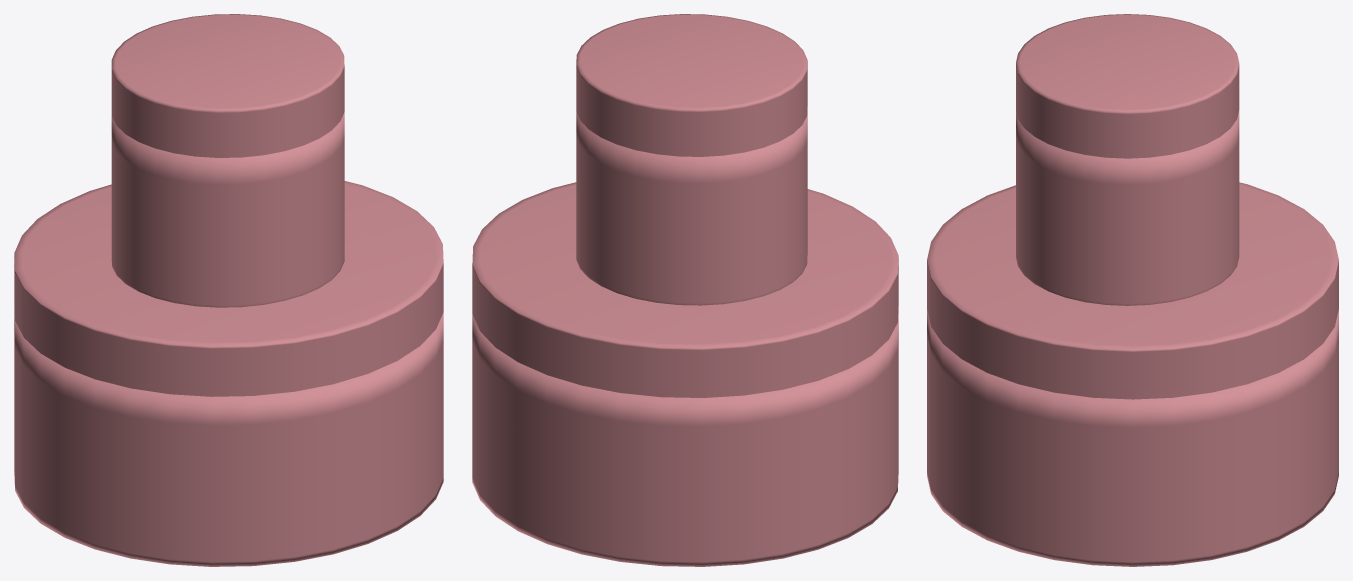
The model's file is 2-tier-blush-none-none.glb.
3 views of the same model, side by side, from view 1: azimuth 30°, elevation 25°; view 2: azimuth 150°, elevation 25°; view 3: azimuth 270°, elevation 25° (orthographic).
Visible parts, largest first — view 1: Cylinder.023, Cylinder.013; view 2: Cylinder.023, Cylinder.013; view 3: Cylinder.023, Cylinder.013.
Part boxes in pixels (x1,y1,x2,y2): Cylinder.023: (14, 181, 443, 566); Cylinder.013: (111, 14, 344, 307); Cylinder.023: (472, 182, 898, 566); Cylinder.013: (576, 14, 807, 305); Cylinder.023: (927, 182, 1338, 566); Cylinder.013: (1016, 14, 1239, 305).
Size of the model in its own units: 3.4 by 3.61 by 3.27.
